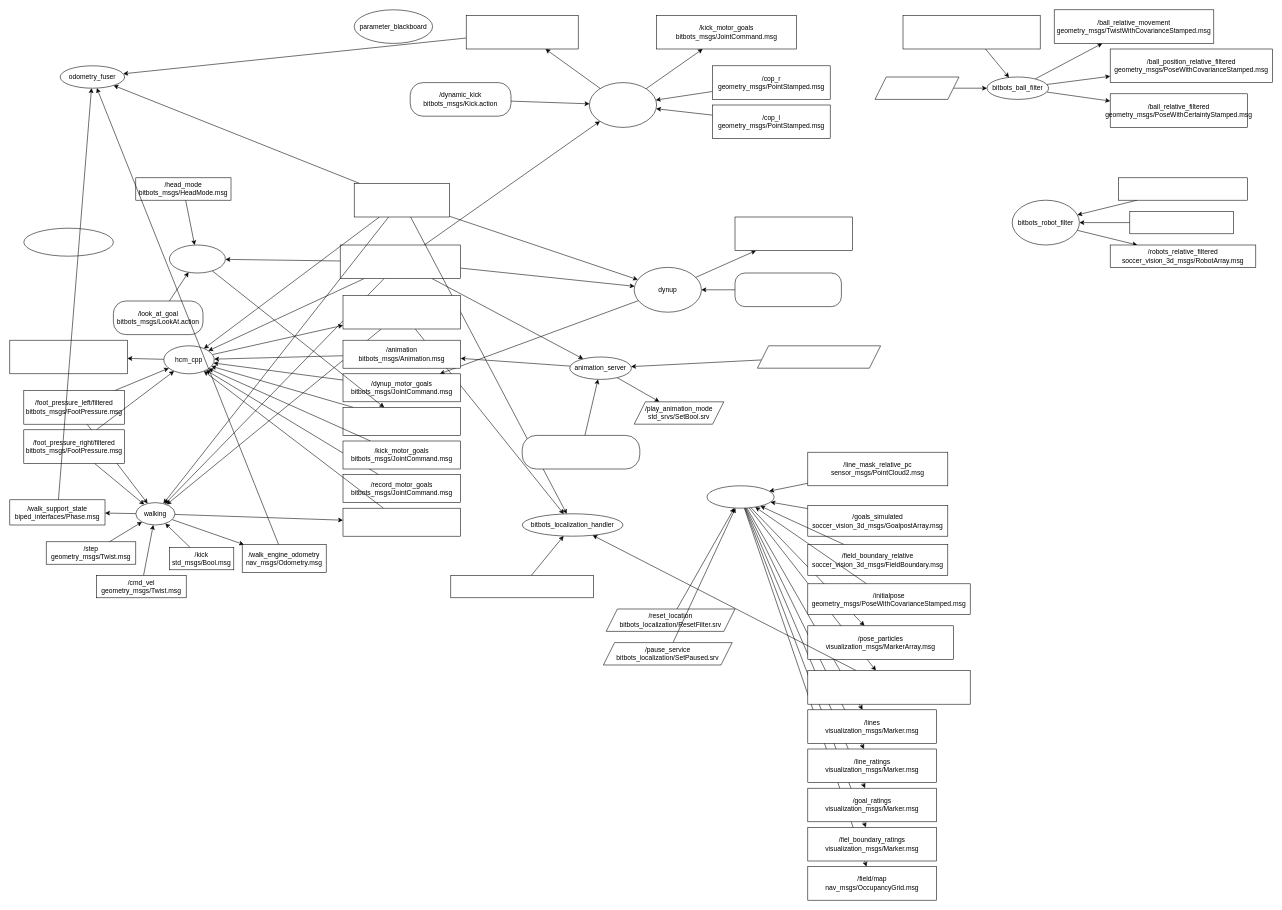
Some shapes in this 1282 by 910 pixel diagram are drawn without their labels. Each missing label, with the box of its shape:
/add_temporary_animation bitbots_msgs/AddAnimation.srv: (757, 345, 881, 368)
/animation bitbots_msgs/PlayAnimation.action: (522, 435, 640, 469)
/ball_filter_reset std_srvs/Trigger.srv: (874, 76, 959, 99)
/balls_relative soccer_vision_3d_msgs/BallArray.msg: (902, 15, 1040, 49)
/debug_markers visualization_msgs/Marker.msg: (734, 216, 853, 251)
/dynamic_kick_support_state biped_interfaces/Phase.msg: (466, 15, 578, 49)
/DynamixelController/command bitbots_msgs/JointCommand.msg: (9, 340, 127, 374)
/dynup bitbots_msgs/Dynup.action: (734, 272, 841, 307)
/gamestate game_controller_hl_interfaces/GameState.msg: (450, 575, 594, 598)
/head_motor_goals bitbots_msgs/JointCommand.msg: (342, 407, 461, 435)
/imu/data sensor_msgs/Imu.msg: (354, 183, 449, 217)
/joint_states sensor_msgs/JointState.msg: (340, 244, 461, 279)
/pose_with_covariance geometry_msgs/PoseWithCovarianceStamped.msg: (807, 670, 970, 704)
/robot_state bitbots_msgs/RobotControlState.msg: (342, 295, 461, 329)
/robots_relative soccer_vision_3d_msgs/RobotArray.msg: (1118, 177, 1247, 200)
/team_data bitbots_msgs/TeamData.msg: (1129, 211, 1233, 234)
/walking_motor_goals bitbots_msgs/JointCommand.msg: (342, 508, 461, 536)
bitbots_localization: (706, 485, 774, 508)
dynamic_kick: (589, 82, 657, 127)
head_mover: (169, 244, 225, 273)
moveit_head_mover_node: (23, 228, 113, 256)
